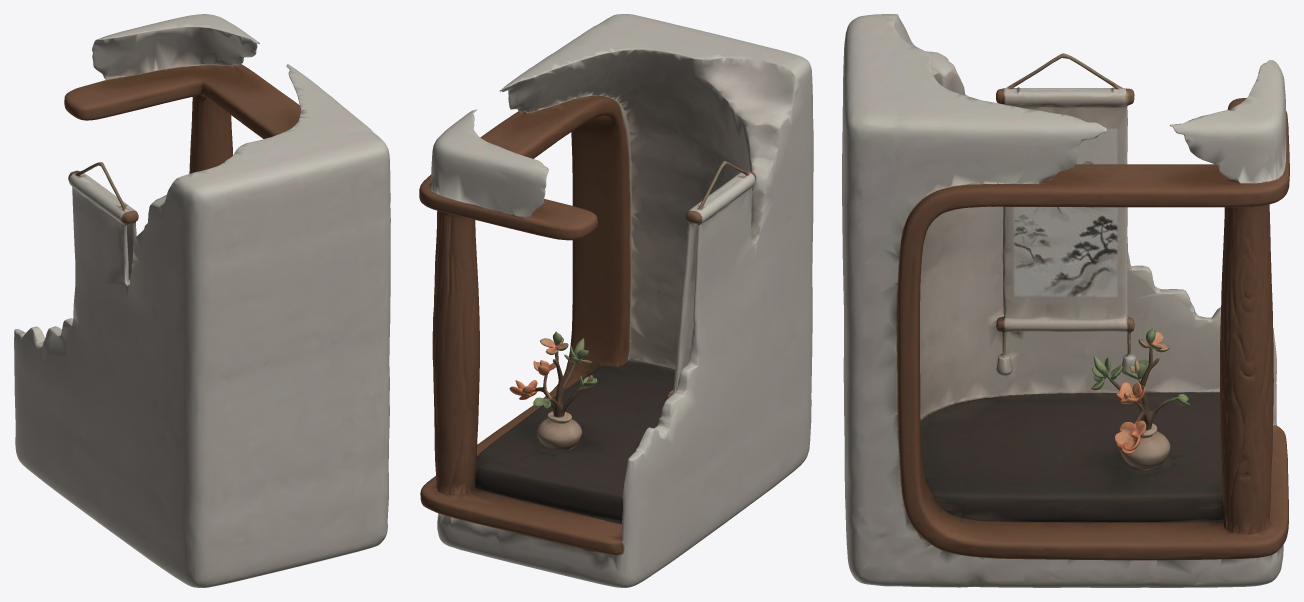
The model's file is JP_사물_s2_deco_tokonoma_old.glb.
3 views of the same model, side by side, from view 1: azimuth 30°, elevation 25°; view 2: azimuth 150°, elevation 25°; view 3: azimuth 270°, elevation 25° (orthographic). The views are drawn at different scales.
Parts seen in each view (by area): view 1: tripo_node_e6cab2a5-6af8-4b16-95b8-a1e98dc8a3ce; view 2: tripo_node_e6cab2a5-6af8-4b16-95b8-a1e98dc8a3ce; view 3: tripo_node_e6cab2a5-6af8-4b16-95b8-a1e98dc8a3ce.
Part boxes in pixels (left/top/right/bottom): tripo_node_e6cab2a5-6af8-4b16-95b8-a1e98dc8a3ce: left=14, top=14, right=390, bottom=587; tripo_node_e6cab2a5-6af8-4b16-95b8-a1e98dc8a3ce: left=419, top=14, right=813, bottom=587; tripo_node_e6cab2a5-6af8-4b16-95b8-a1e98dc8a3ce: left=842, top=14, right=1289, bottom=587.
Size of the model in its own units: 0.5838 by 0.9999 by 0.8591.
1 material, 1 textured.
